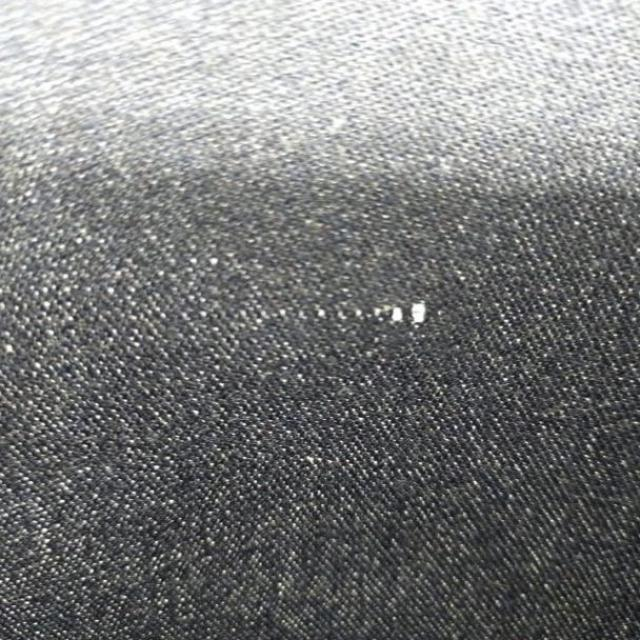Knot: (336, 301, 428, 325)
